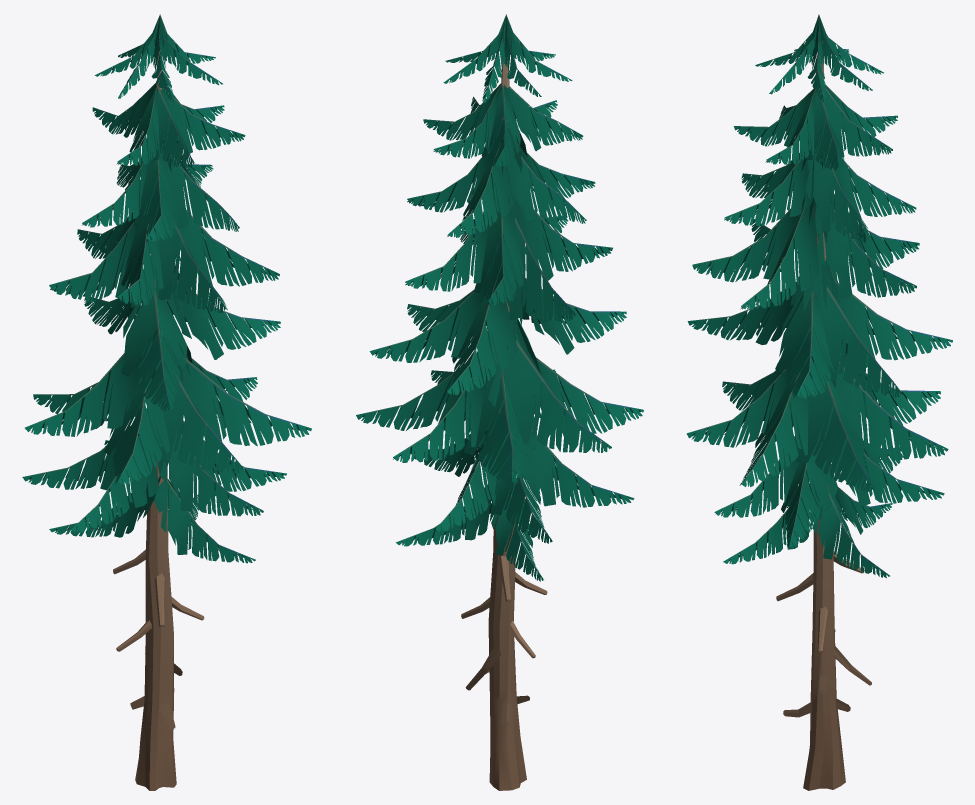
Rendered from pineTree.fbx.
3 renders of one model, left to right at view 1: azimuth 30°, elevation 25°; view 2: azimuth 150°, elevation 25°; view 3: azimuth 270°, elevation 25°, orthographic.
Parts seen in each view (by area): view 1: PT_Pine_Tree_03_green_LOD0; view 2: PT_Pine_Tree_03_green_LOD0; view 3: PT_Pine_Tree_03_green_LOD0.
Boxes of the visible parts, x1,y1,x2,y2 form: PT_Pine_Tree_03_green_LOD0: [22, 14, 311, 790]; PT_Pine_Tree_03_green_LOD0: [356, 14, 643, 790]; PT_Pine_Tree_03_green_LOD0: [686, 14, 952, 790].
Size of what is drawn, in the model's own units: 321 by 917 by 303.
